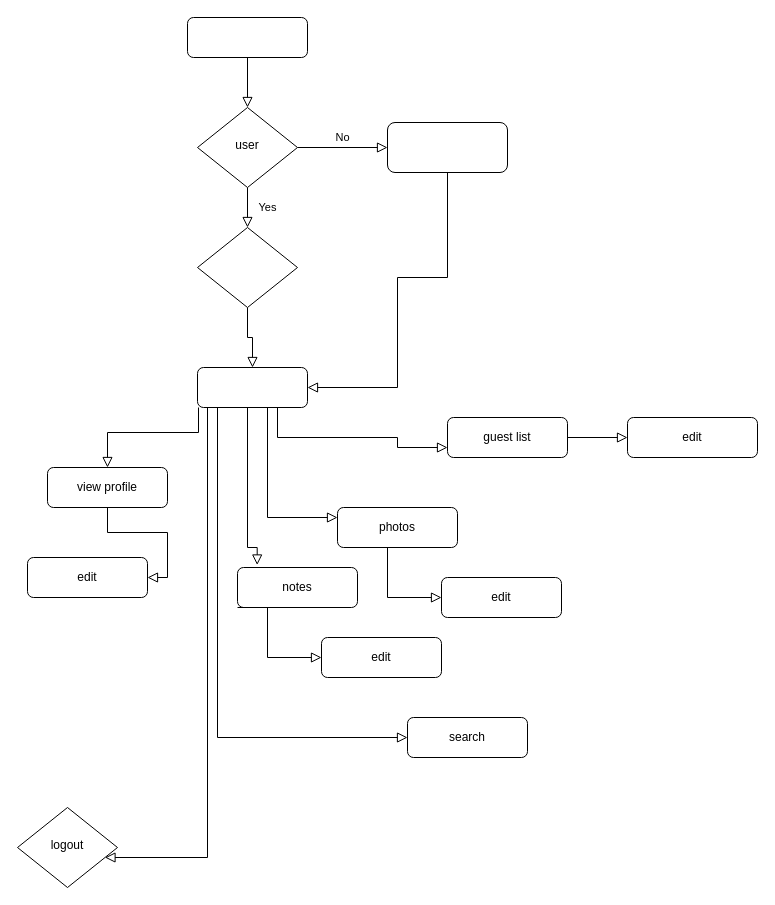
This 775x905 diagram has some shape labels left out. The shapes that lost their labels are listed below. From the top down, each one's box as (x1, y1, x2, y2) in pixels, then its label:
(186, 16, 308, 58): index.html
(386, 122, 508, 172): sign up
(196, 226, 298, 308): login
(196, 366, 308, 408): Home
